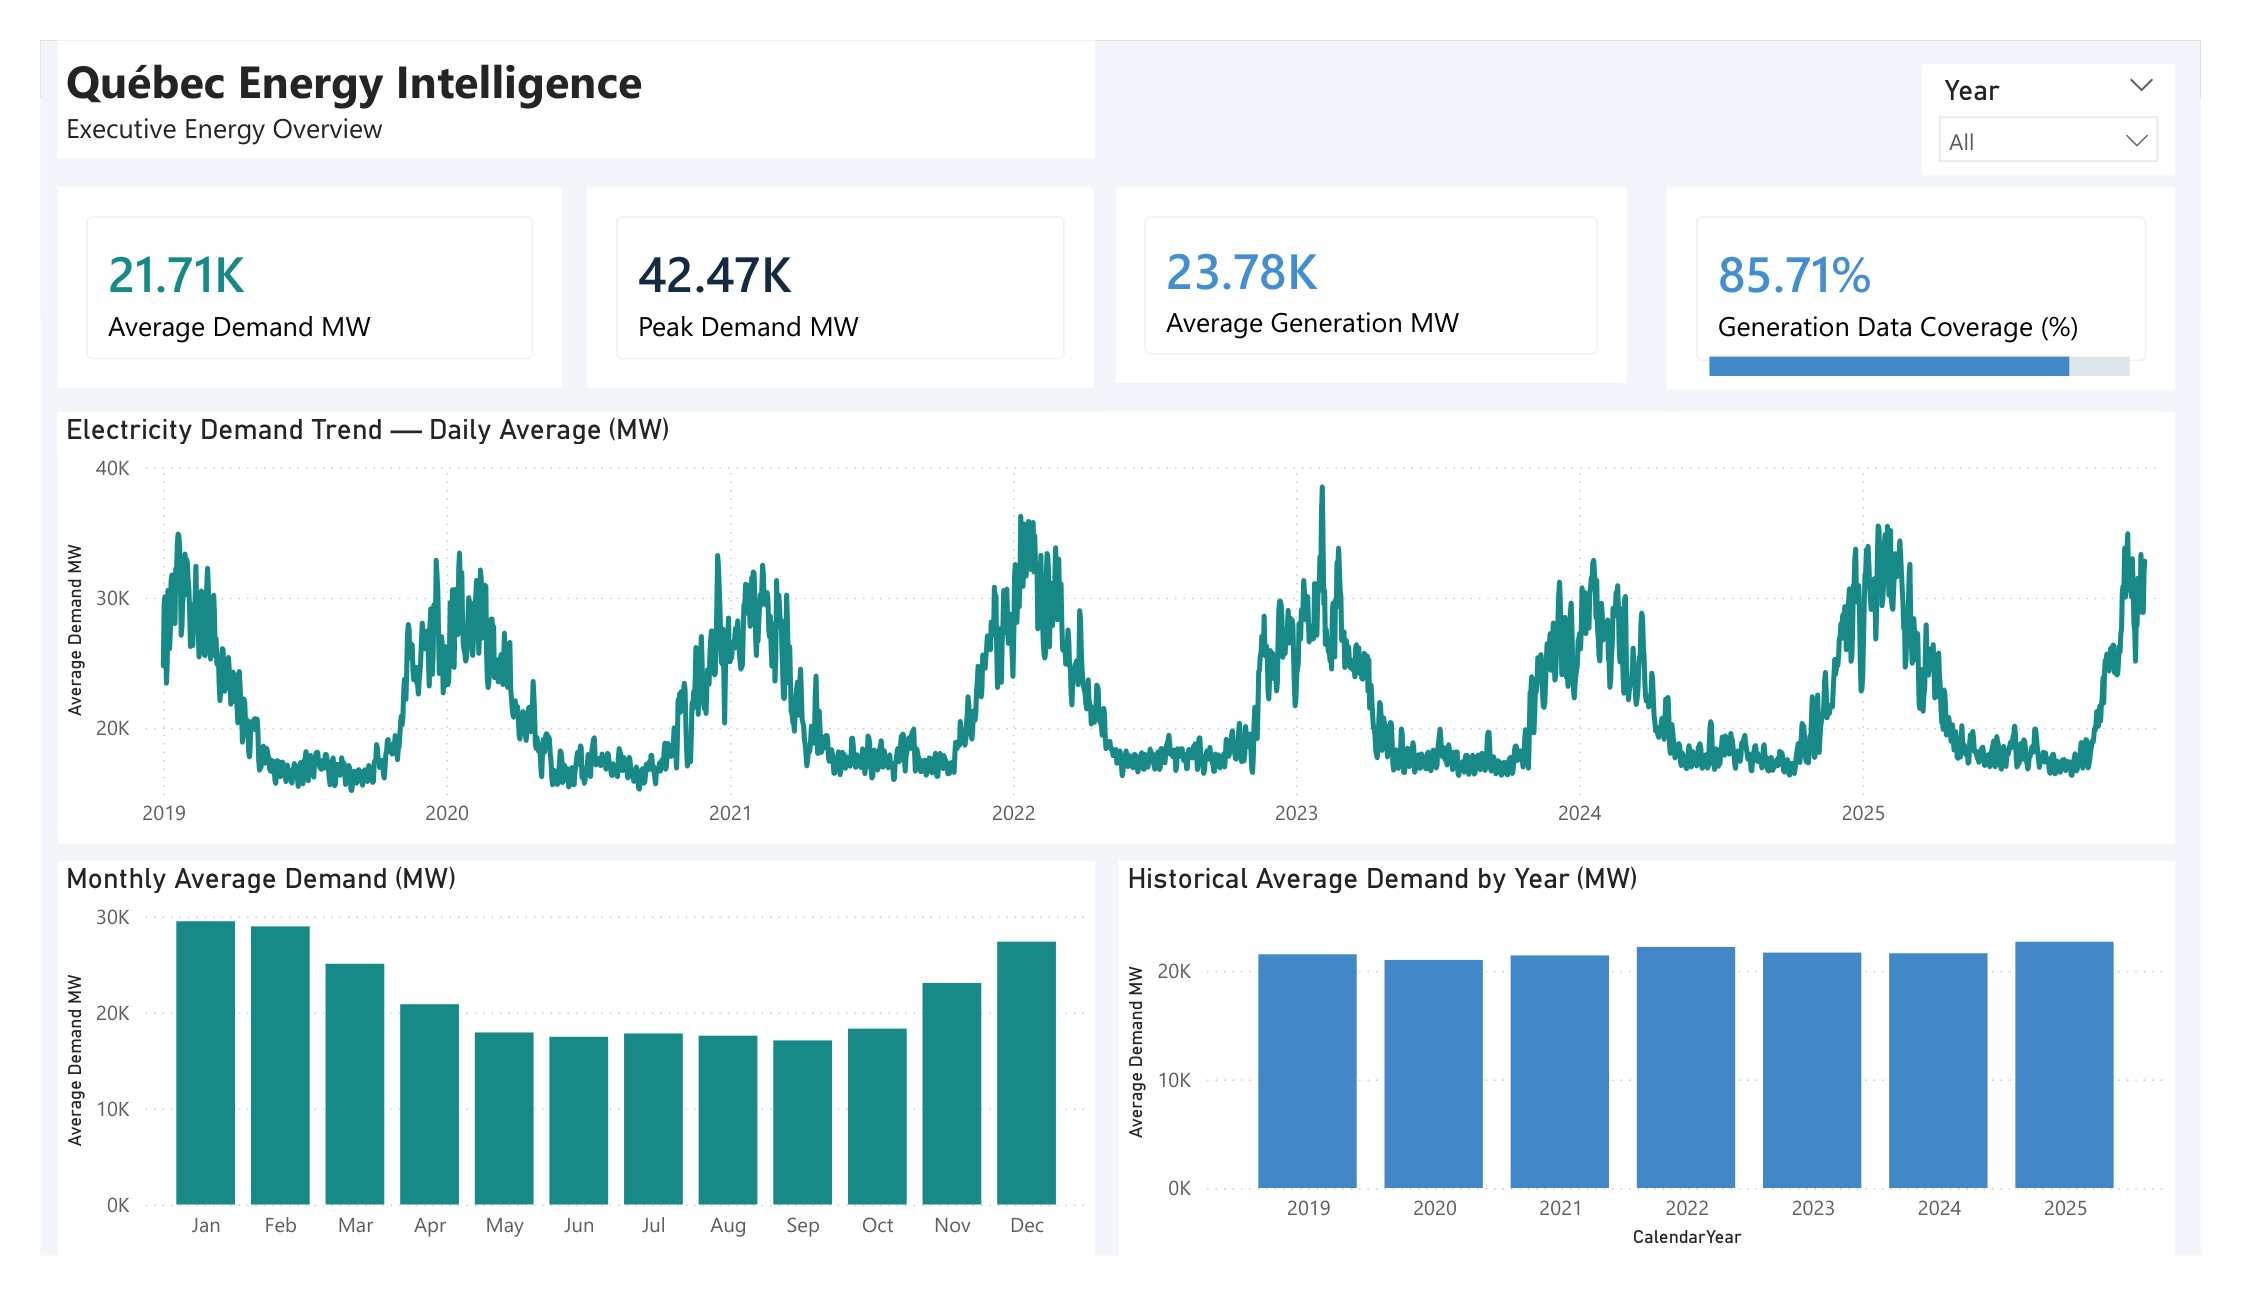

The page's visual inventory and layout, read from the dashboard file:
{"tool":"powerbi","page":{"name":"Overview","canvas":[1280,720],"ordinal":0},"visuals":[{"type":"slicer","fields":{"Values":["dw vw_EnergyHourlyAnalysis.CalendarYear"]},"box":[1114.9,14.2,149.9,65.9],"z":0},{"type":"cardVisual","fields":{"Data":["_Measures.Average Demand MW"]},"box":[10.3,87.2,298.4,118.9],"z":1000},{"type":"cardVisual","fields":{"Data":["_Measures.Generation Display"]},"box":[636.9,87.2,303.6,116.3],"z":2000},{"type":"cardVisual","fields":{"Data":["_Measures.Generation Coverage %"]},"box":[963.7,87.2,301,120.1],"z":3000},{"type":"cardVisual","fields":{"Data":["_Measures.Peak Demand MW"]},"box":[324.3,87.2,299.7,118.9],"z":4000},{"type":"textbox","box":[10,0,615,70],"z":5000},{"type":"lineChart","title":"Electricity Demand Trend — Daily Average (MW)","fields":{"Y":["_Measures.Average Demand MW"],"Category":["dw vw_EnergyHourlyAnalysis.FullDate"]},"box":[10,220,1255,256.2],"z":6000},{"type":"clusteredColumnChart","title":"Monthly Average Demand (MW)","fields":{"Category":["dw vw_EnergyHourlyAnalysis.MonthShort"],"Y":["_Measures.Average Demand MW"]},"box":[10.3,485.8,614.9,233.8],"z":7000},{"type":"clusteredColumnChart","title":"Historical Average Demand by Year (MW)","fields":{"Y":["_Measures.Average Demand MW"],"Category":["dw vw_EnergyHourlyAnalysis.CalendarYear"]},"box":[639.5,485.8,625.3,233.8],"z":8000},{"type":"hundredPercentStackedBarChart","fields":{"Category":["CoverageAxis.Label"],"Y":["_Measures.Generation Coverage %","_Measures.Missing Generation %"]},"box":[983.8,158.8,258.8,61.2],"z":9000}]}

Visuals, with their boxes in screenshot pixels (x1, y1, x2, y2), scaled from the page's 1280x720 canvas onto the 2241x1296 screenshot:
slicer - dw vw_EnergyHourlyAnalysis.CalendarYear: crop(1952, 26, 2214, 144)
cardVisual - _Measures.Average Demand MW: crop(18, 157, 540, 371)
cardVisual - _Measures.Generation Display: crop(1115, 157, 1647, 366)
cardVisual - _Measures.Generation Coverage %: crop(1687, 157, 2214, 373)
cardVisual - _Measures.Peak Demand MW: crop(568, 157, 1092, 371)
textbox: crop(18, 0, 1094, 126)
"Electricity Demand Trend — Daily Average (MW)" lineChart: crop(18, 396, 2215, 857)
"Monthly Average Demand (MW)" clusteredColumnChart: crop(18, 874, 1095, 1295)
"Historical Average Demand by Year (MW)" clusteredColumnChart: crop(1120, 874, 2214, 1295)
hundredPercentStackedBarChart - CoverageAxis.Label x _Measures.Generation Coverage %: crop(1722, 286, 2176, 396)
